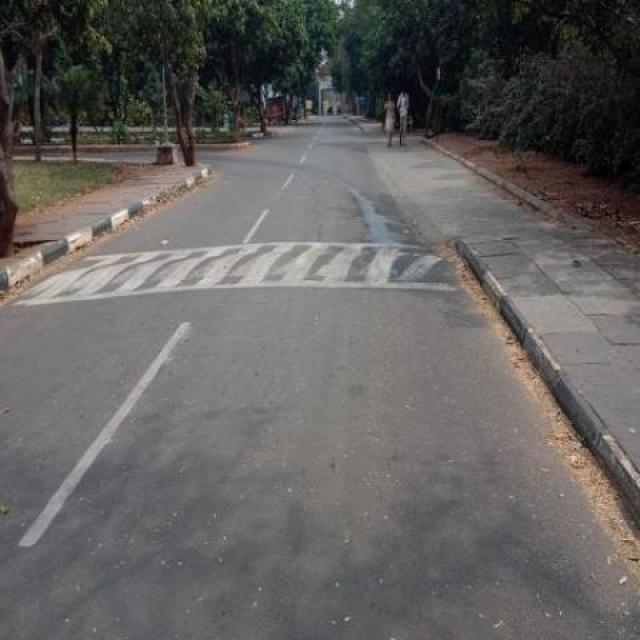Speed Bump: (11, 242, 467, 298)
